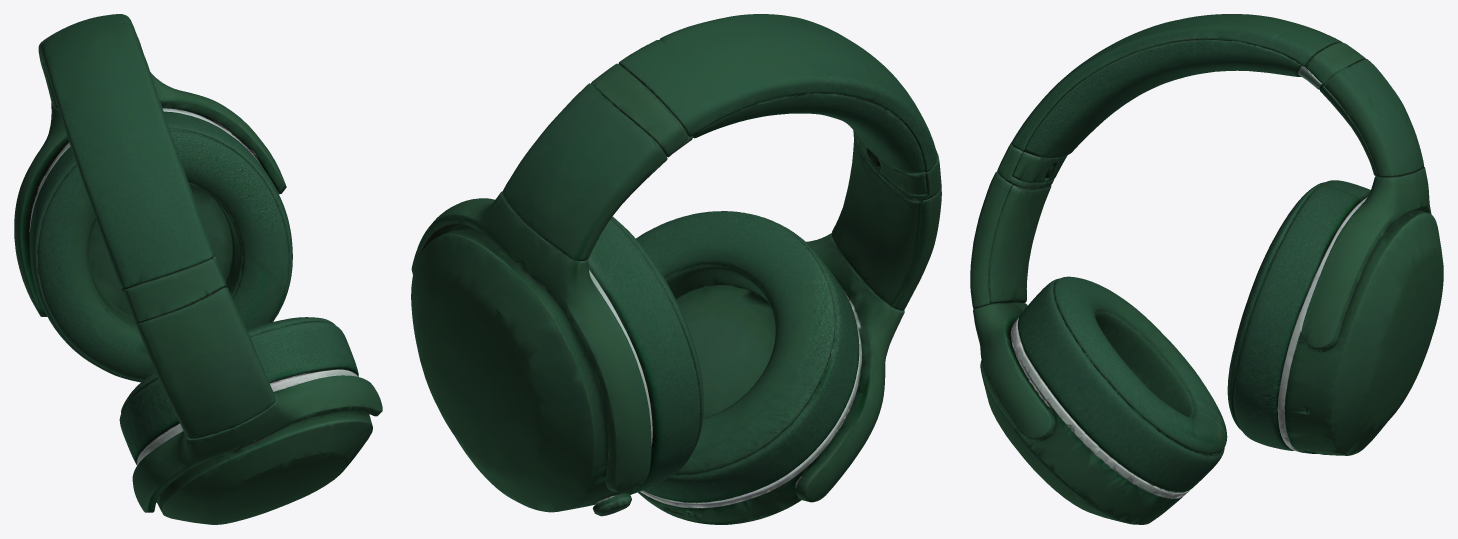
The model's file is crusher-540.glb.
The picture shows the model from 3 angles, left to right: view 1: azimuth 30°, elevation 25°; view 2: azimuth 150°, elevation 25°; view 3: azimuth 270°, elevation 25°; orthographic projection. The views are drawn at different scales.
Parts seen in each view (by area): view 1: tripo_node_7ddbb352-7941-4a3e-b384-2bace16e03af; view 2: tripo_node_7ddbb352-7941-4a3e-b384-2bace16e03af; view 3: tripo_node_7ddbb352-7941-4a3e-b384-2bace16e03af.
Boxes of the visible parts, <box> form: tripo_node_7ddbb352-7941-4a3e-b384-2bace16e03af: <box>14,14,382,524</box>; tripo_node_7ddbb352-7941-4a3e-b384-2bace16e03af: <box>411,14,941,524</box>; tripo_node_7ddbb352-7941-4a3e-b384-2bace16e03af: <box>970,14,1443,524</box>.
Size of the model in its own units: 0.6751 by 0.9798 by 0.9149.
1 material, 1 textured.
